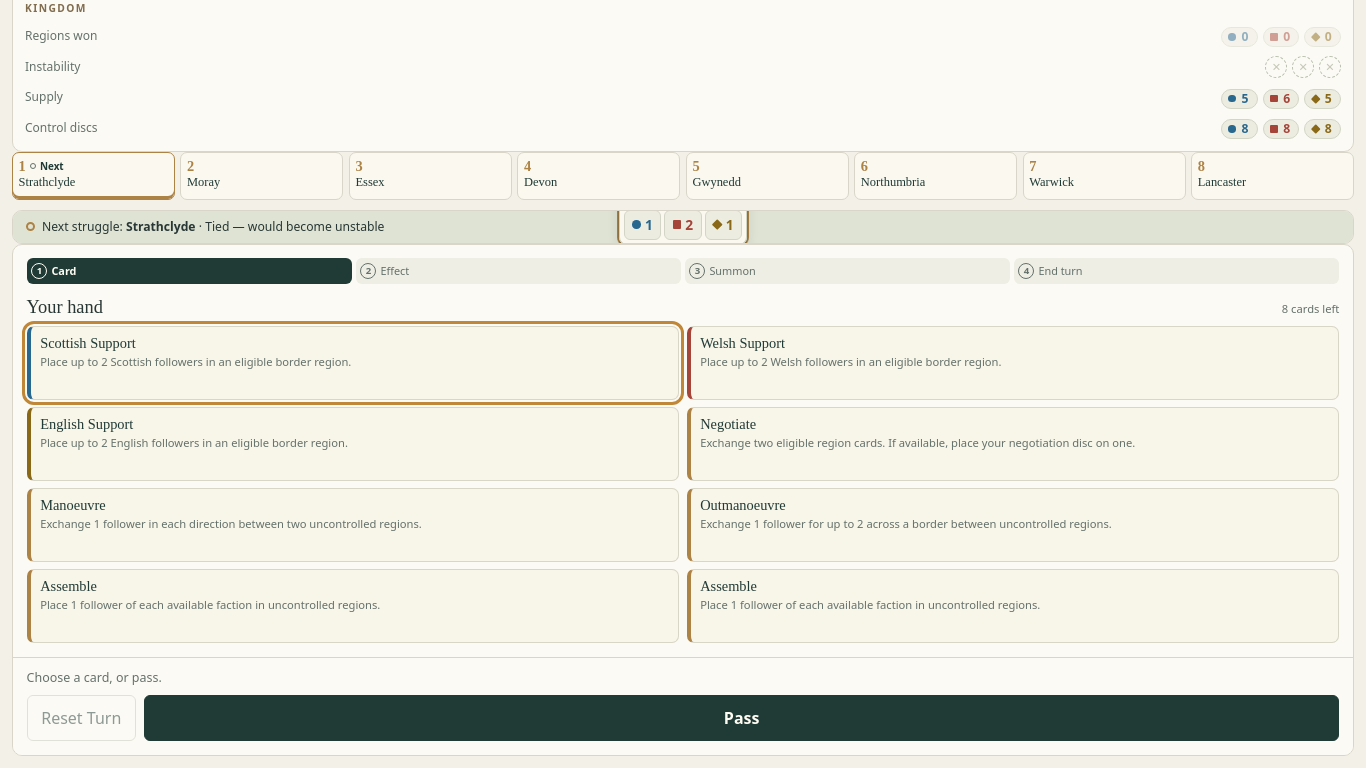
Test: hotseat game UI › shows cards immediately and changes to the next human hand without a curtain
The width and height of the screenshot is (1366, 768).
(page scrolled)
Click the button "Pass".
click(742, 718)  # box [144, 695, 1339, 741]
(page scrolled)
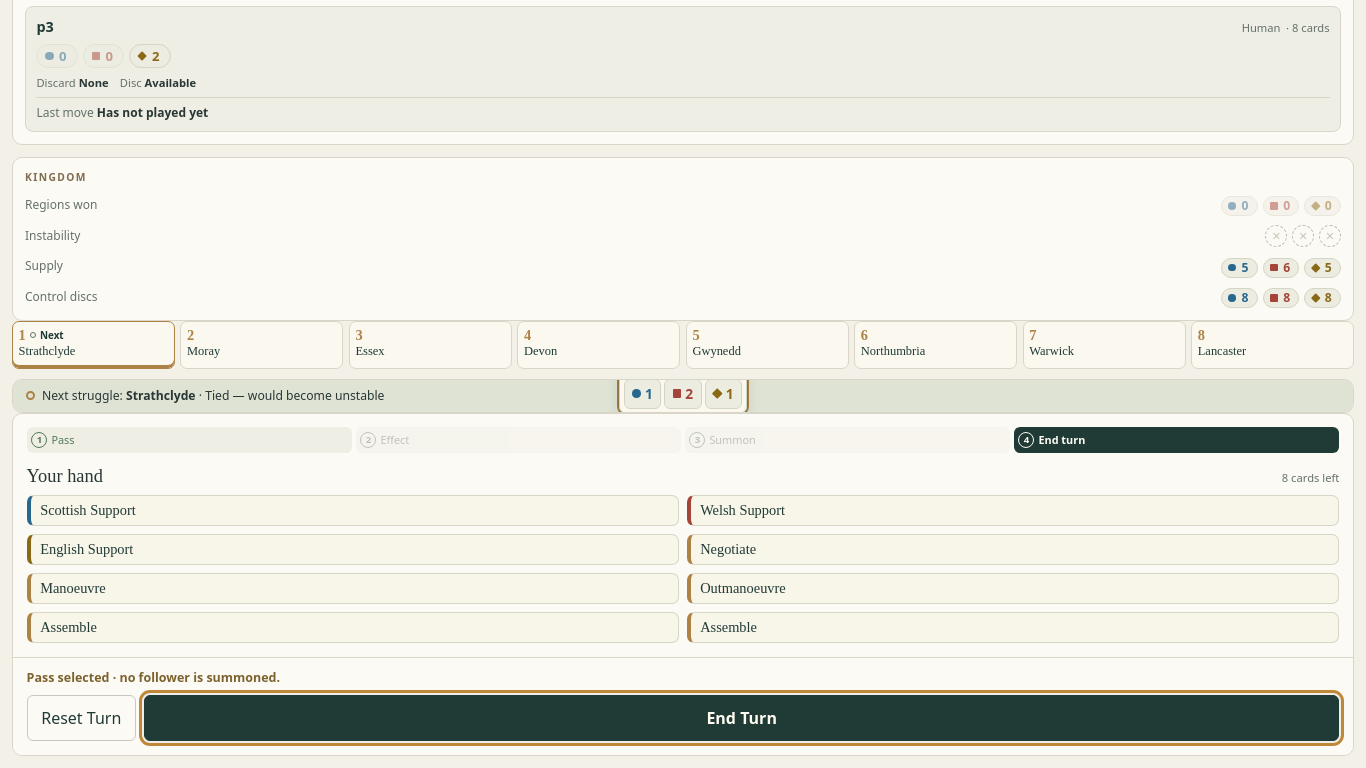
Expected: the message named "Turn preview" shows "Pass selected", [27, 669, 280, 686]
Click the button "End Turn".
click(742, 718)  # box [144, 695, 1339, 741]
(page scrolled)
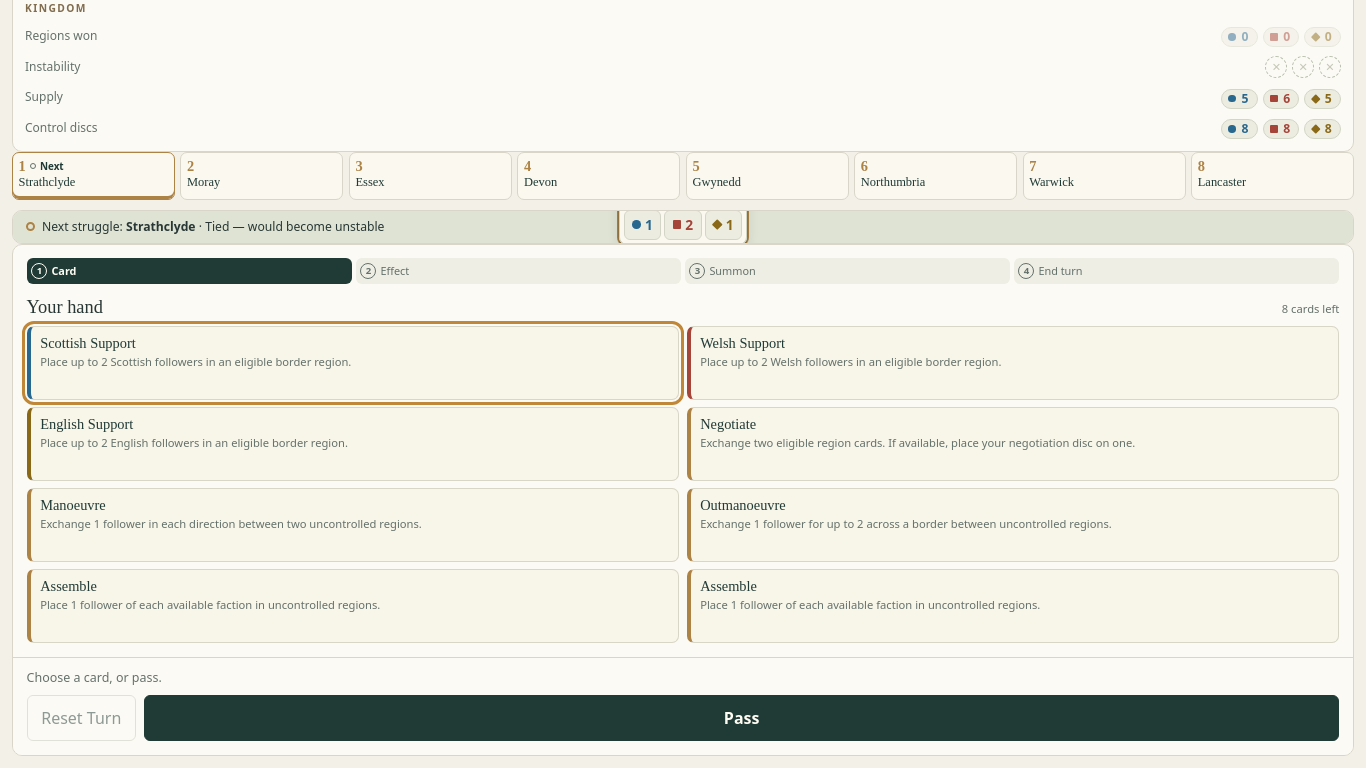
Expected: the button "Pass" is shown, [144, 695, 1339, 741]
